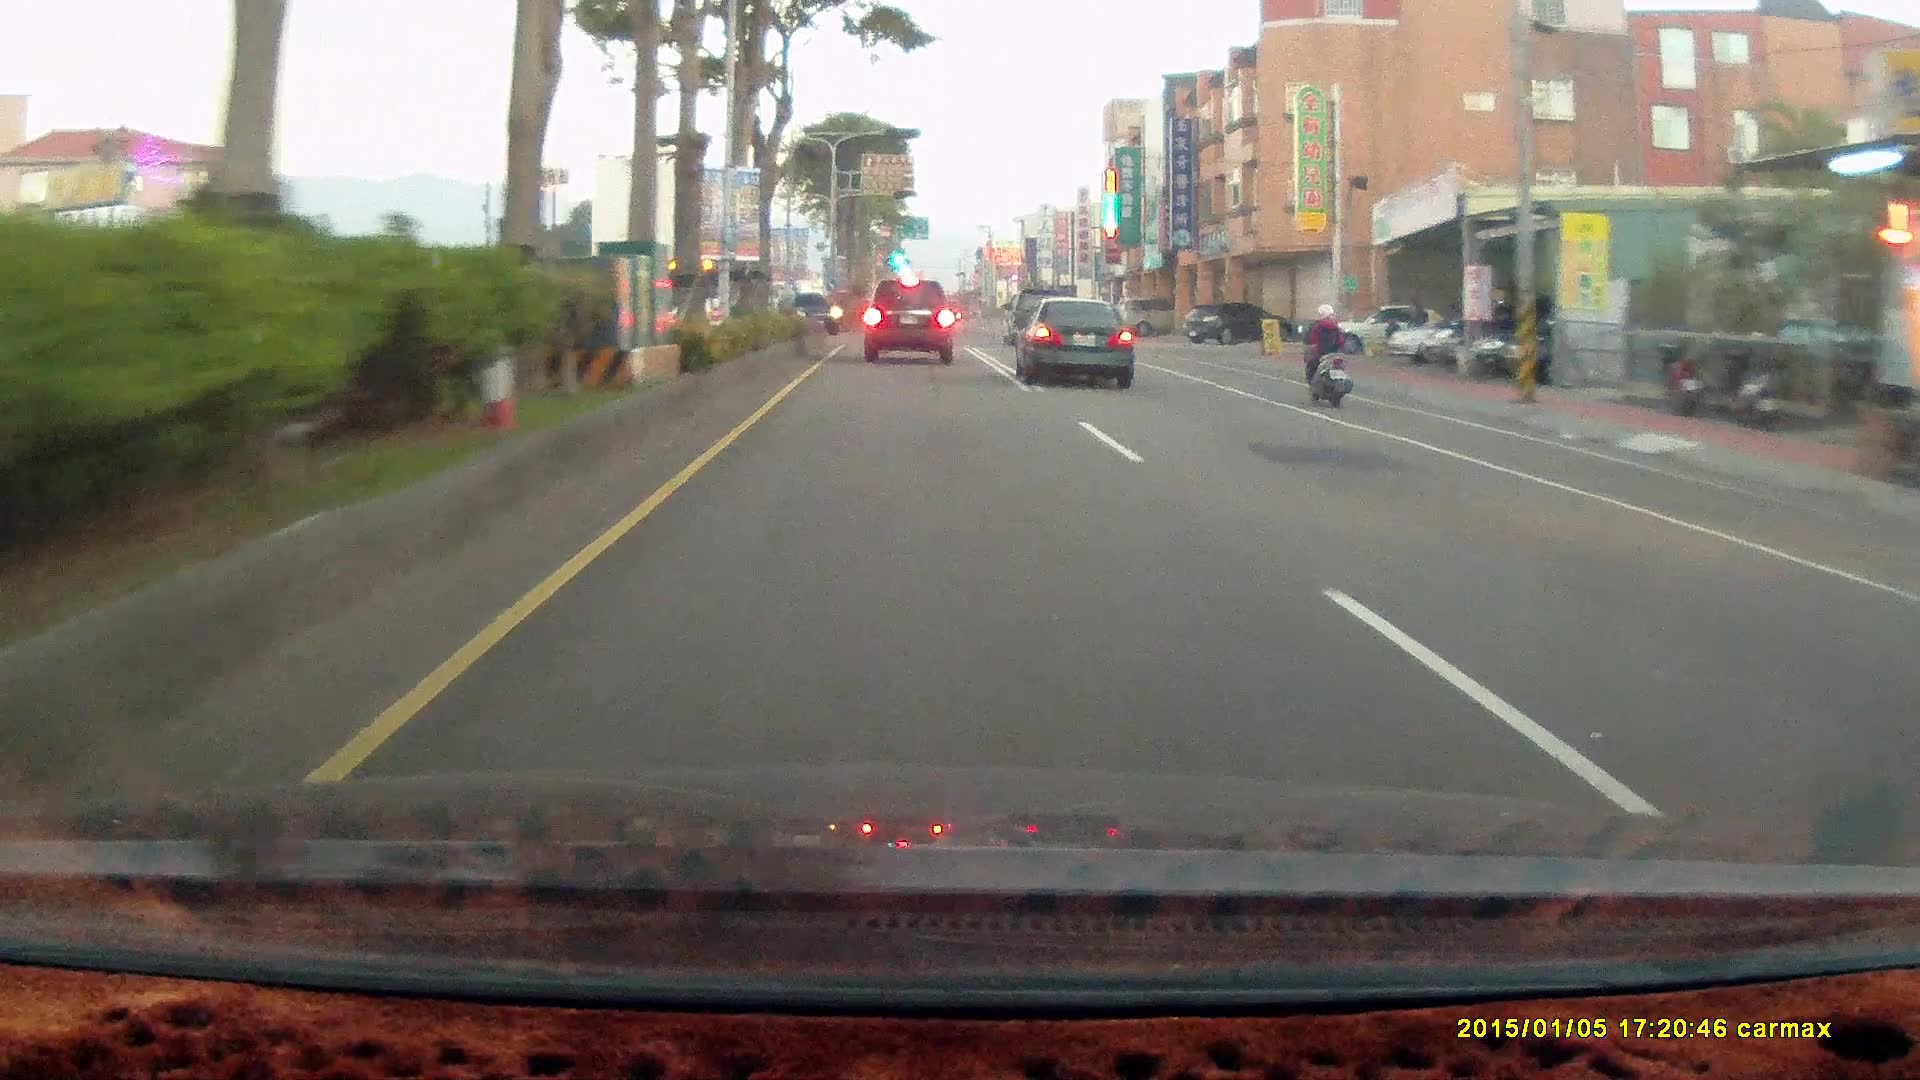rider: (1290, 291, 1366, 417), (1294, 297, 1352, 404)
vehicle: (1468, 300, 1626, 377), (1498, 308, 1659, 383), (1021, 290, 1139, 386), (1010, 294, 1132, 385), (1426, 294, 1564, 365), (1302, 298, 1460, 356), (866, 269, 961, 358), (861, 277, 953, 363), (1388, 310, 1505, 363), (1181, 300, 1289, 344), (1185, 300, 1280, 345), (999, 286, 1064, 339), (1118, 295, 1199, 336), (780, 287, 841, 328)
